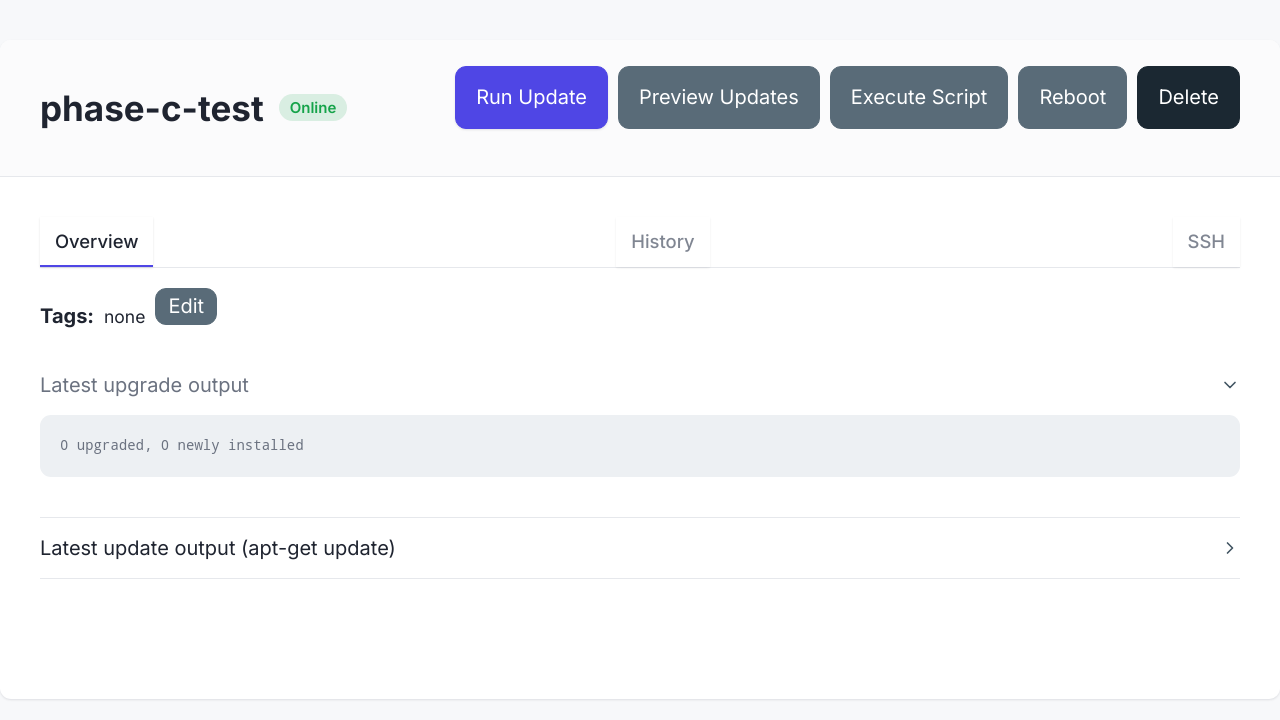
Test: HostDetail › renders the SSH form on the SSH tab with the current ssh_user prefilled
Expected: the heading "phase-c-test" is shown, [40,81,264,135]
Step 1. Click the tab "SSH" → x=1206, y=242, box [1172,217,1240,267]
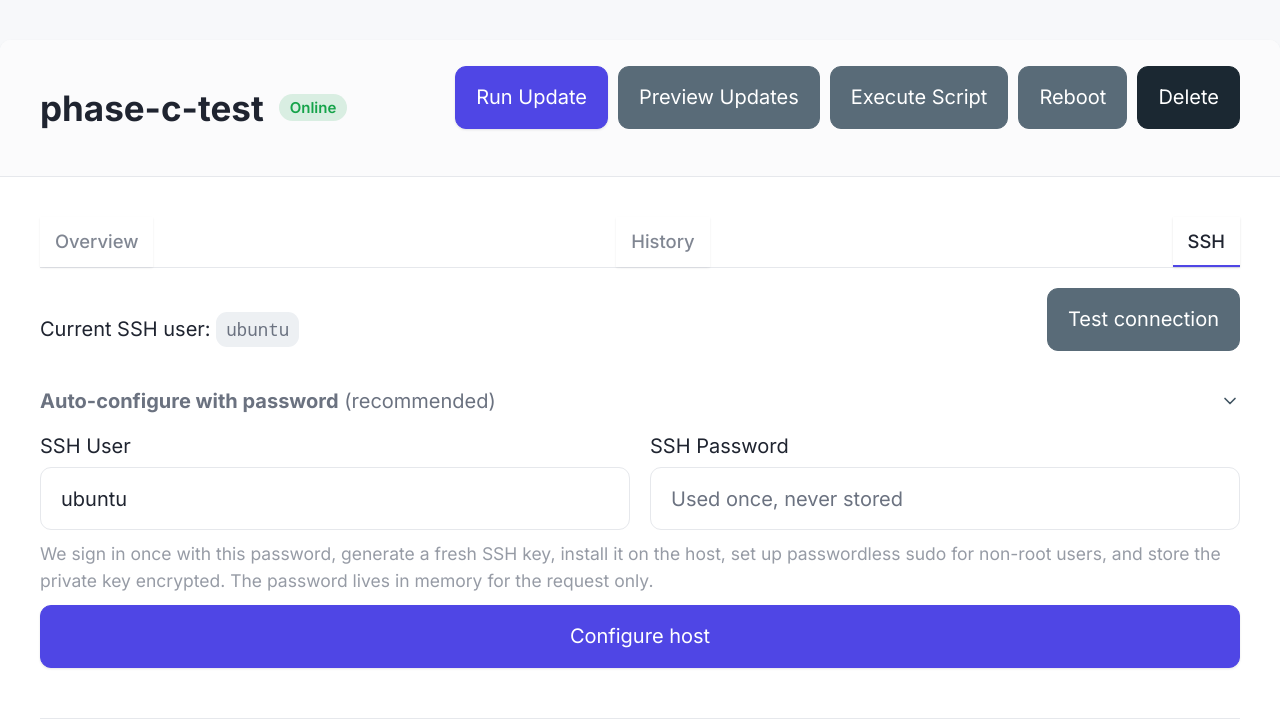
Now the field labelled "SSH User" holds "ubuntu", box [40,467,630,530]
